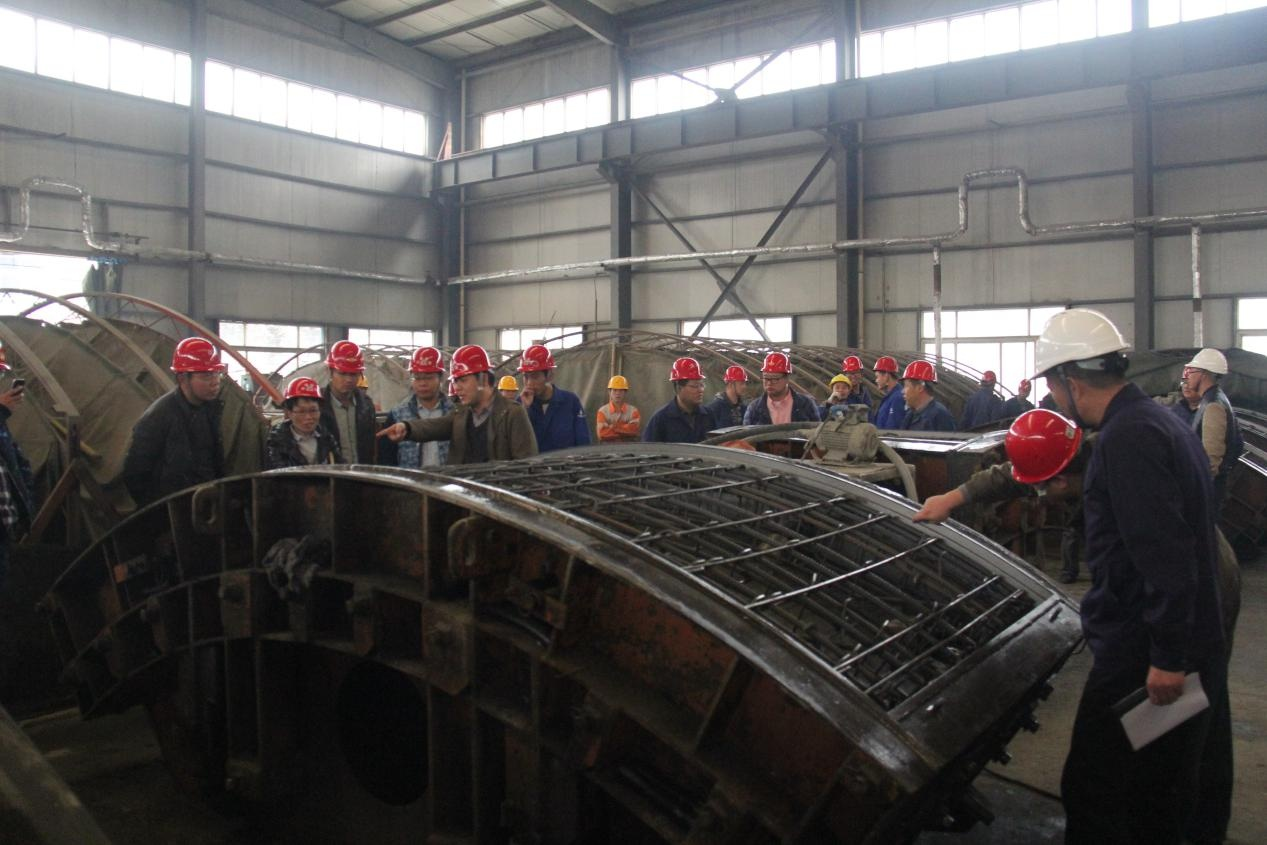red: (1009, 409, 1083, 501), (170, 336, 222, 399), (451, 346, 492, 405), (283, 375, 325, 432), (325, 338, 365, 393), (407, 346, 444, 398), (519, 344, 556, 394), (900, 359, 937, 405), (670, 357, 706, 403), (760, 351, 795, 396), (873, 355, 899, 389), (722, 364, 749, 396), (840, 354, 862, 383), (1017, 378, 1032, 399), (981, 369, 997, 387)
white: (1035, 309, 1126, 419), (1183, 349, 1229, 394)
yellow: (605, 372, 629, 401), (828, 372, 851, 400), (498, 374, 518, 400)
